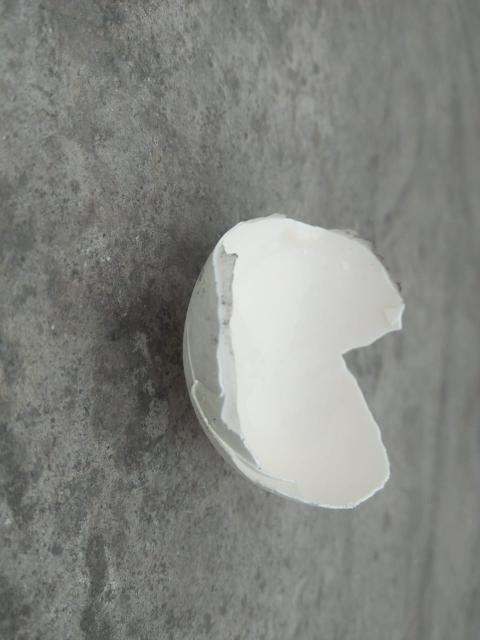Roto: (182, 212, 406, 509)
